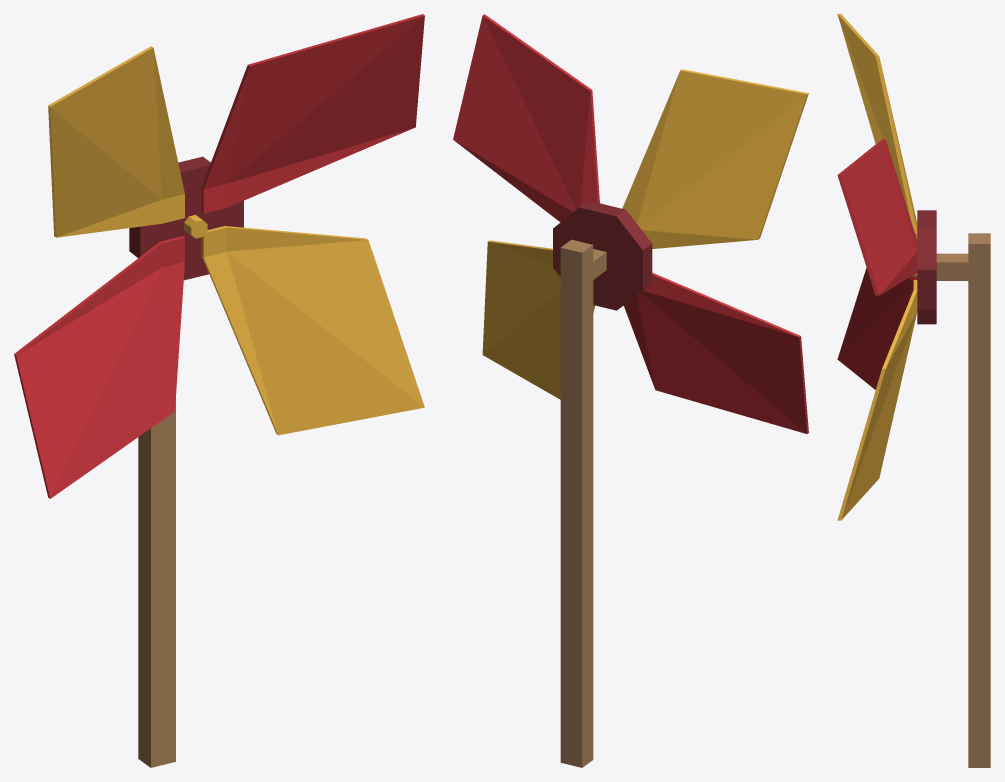
The picture shows the model from 3 angles, left to right: view 1: azimuth 30°, elevation 25°; view 2: azimuth 150°, elevation 25°; view 3: azimuth 270°, elevation 25°; orthographic projection. The views are drawn at different scales.
Visible parts, largest first — view 1: Folded_Paper_Sail_4, Folded_Paper_Sail_3, Folded_Paper_Sail_1, Folded_Paper_Sail_2, Continuous_Wooden_Handle, Octagonal_Paper_Back_Hub; view 2: Folded_Paper_Sail_2, Folded_Paper_Sail_1, Folded_Paper_Sail_3, Continuous_Wooden_Handle, Folded_Paper_Sail_4, Octagonal_Paper_Back_Hub; view 3: Continuous_Wooden_Handle, Folded_Paper_Sail_1, Folded_Paper_Sail_4, Folded_Paper_Sail_3, Folded_Paper_Sail_2, Octagonal_Paper_Back_Hub, Fixed_Square_Rear_Axle.
Boxes of the visible parts, <box> form: Folded_Paper_Sail_4: <box>201,226,424,435</box>; Folded_Paper_Sail_3: <box>14,236,184,498</box>; Folded_Paper_Sail_1: <box>201,14,424,213</box>; Folded_Paper_Sail_2: <box>48,46,184,237</box>; Continuous_Wooden_Handle: <box>138,398,175,767</box>; Octagonal_Paper_Back_Hub: <box>129,156,243,280</box>; Folded_Paper_Sail_2: <box>622,69,808,248</box>; Folded_Paper_Sail_1: <box>453,14,599,222</box>; Folded_Paper_Sail_3: <box>623,272,808,433</box>; Continuous_Wooden_Handle: <box>560,239,593,767</box>; Folded_Paper_Sail_4: <box>482,240,595,399</box>; Octagonal_Paper_Back_Hub: <box>553,200,652,310</box>; Continuous_Wooden_Handle: <box>968,233,990,767</box>; Folded_Paper_Sail_1: <box>837,139,917,295</box>; Folded_Paper_Sail_4: <box>837,280,917,520</box>; Folded_Paper_Sail_3: <box>837,268,917,389</box>; Folded_Paper_Sail_2: <box>837,14,917,239</box>; Octagonal_Paper_Back_Hub: <box>917,210,936,324</box>; Fixed_Square_Rear_Axle: <box>936,253,968,280</box>.
Size of the model in its own units: 0.64 by 1.18 by 0.241.
